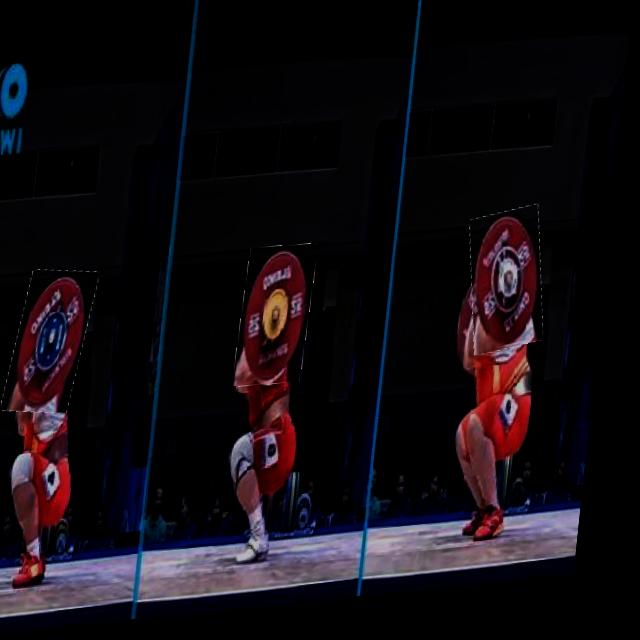barbell: (14, 269, 103, 419), (470, 218, 559, 367), (243, 250, 324, 395)
